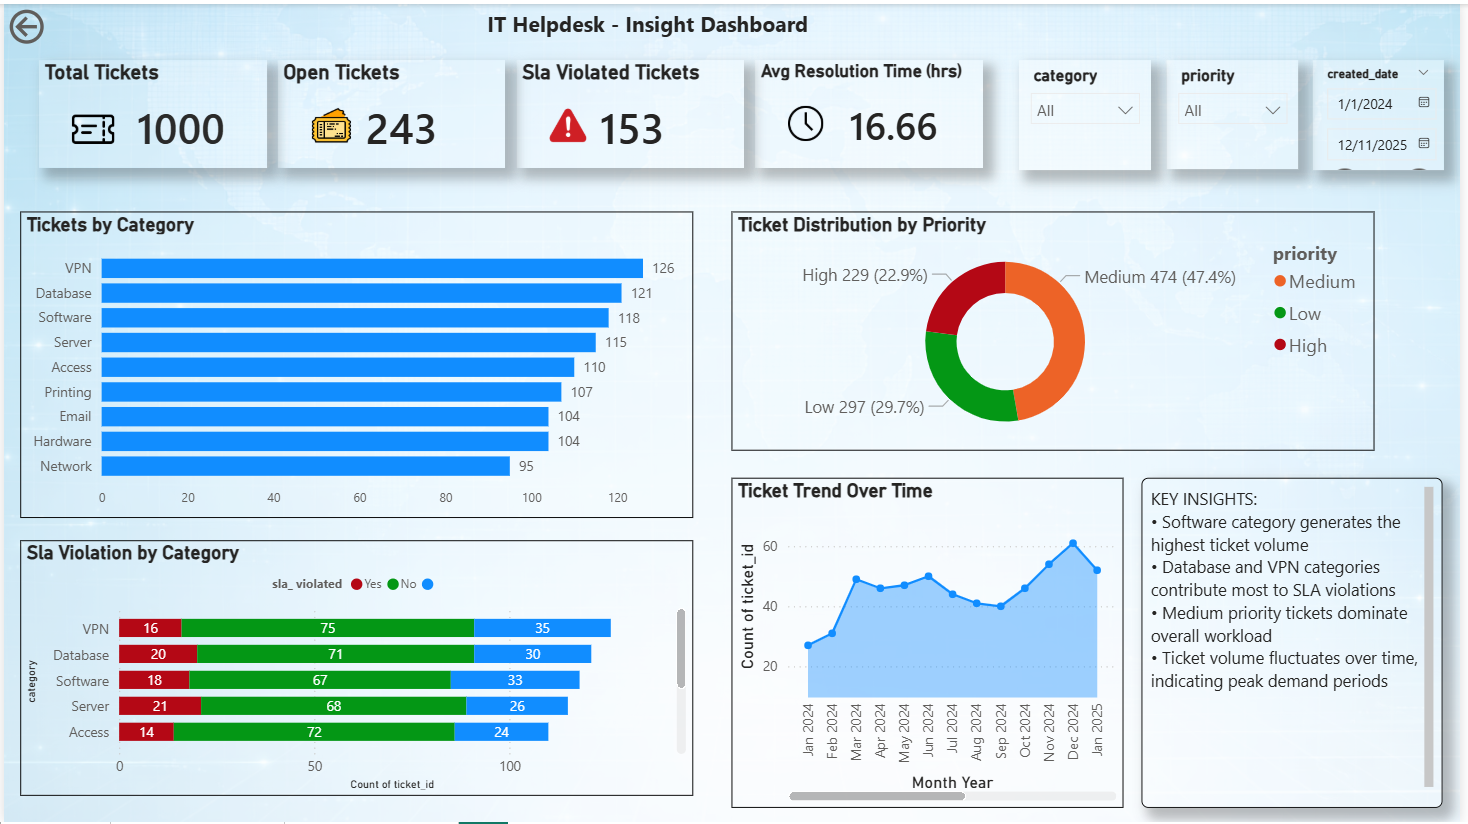

Layout of this report page (visuals, bound fields, positions):
{"tool":"powerbi","page":{"name":"Insight dashboard","canvas":[1280,720],"ordinal":2},"visuals":[{"type":"cardVisual","title":"Total Tickets","fields":{"Data":["CountNonNull(helpdesk_analytics.ticket_id)"]},"box":[30.3,49.6,200.9,94.4],"z":0},{"type":"cardVisual","title":"Sla Violated Tickets","fields":{"Data":["CountNonNull(helpdesk_analytics.sla_violated)"]},"box":[451,49.6,200,94.4],"z":1000},{"type":"cardVisual","title":"Avg Resolution Time (hrs)","fields":{"Data":["Avg(helpdesk_analytics.resolution_time_hours)"]},"box":[660.9,49.6,200,94.4],"z":2000},{"type":"cardVisual","title":"Open Tickets","fields":{"Data":["helpdesk_analytics.Open Tickets"]},"box":[241.1,49.6,200,94.4],"z":3000},{"type":"clusteredBarChart","title":"Tickets by Category","fields":{"Category":["helpdesk_analytics.category"],"Y":["CountNonNull(helpdesk_analytics.ticket_id)"]},"box":[14.5,182.8,591.9,269.9],"z":4000},{"type":"donutChart","title":"Ticket Distribution by Priority","fields":{"Category":["helpdesk_analytics.priority"],"Y":["CountNonNull(helpdesk_analytics.ticket_id)"]},"box":[640.4,182.8,565.3,210.6],"z":5000},{"type":"barChart","title":"Sla Violation by Category","fields":{"Category":["helpdesk_analytics.category"],"Y":["CountNonNull(helpdesk_analytics.ticket_id)"],"Series":["helpdesk_analytics.sla_violated"]},"box":[14.5,472.1,591.9,225.2],"z":6000},{"type":"lineChart","title":"Ticket Trend Over Time","fields":{"Y":["CountNonNull(helpdesk_analytics.ticket_id)"],"Category":["helpdesk_analytics.Month Year"]},"box":[640.4,416.4,345,290.5],"z":7000},{"type":"textbox","box":[1001.1,416.4,265.1,290.5],"z":8000},{"type":"textbox","box":[420,0,325.6,37.5],"z":9000},{"type":"slicer","fields":{"Values":["helpdesk_analytics.priority"]},"box":[1022.3,49.6,116.2,95.6],"z":10000},{"type":"slicer","fields":{"Values":["helpdesk_analytics.category"]},"box":[893.3,49.6,116.2,96.8],"z":11000},{"type":"slicer","fields":{"Values":["helpdesk_analytics.created_date"]},"box":[1151.2,49.6,115,96.8],"z":12000},{"type":"actionButton","box":[0,0,49.6,39.9],"z":13000}]}

Visuals, with their boxes in screenshot pixels (x1, y1, x2, y2), scaled from the page's 1280x720 canvas onto the 1468x824 screenshot:
"Total Tickets" cardVisual: Rect(35, 57, 265, 165)
"Sla Violated Tickets" cardVisual: Rect(517, 57, 747, 165)
"Avg Resolution Time (hrs)" cardVisual: Rect(758, 57, 987, 165)
"Open Tickets" cardVisual: Rect(277, 57, 506, 165)
"Tickets by Category" clusteredBarChart: Rect(17, 209, 695, 518)
"Ticket Distribution by Priority" donutChart: Rect(734, 209, 1383, 450)
"Sla Violation by Category" barChart: Rect(17, 540, 695, 798)
"Ticket Trend Over Time" lineChart: Rect(734, 477, 1130, 809)
textbox: Rect(1148, 477, 1452, 809)
textbox: Rect(482, 0, 855, 43)
slicer - helpdesk_analytics.priority: Rect(1172, 57, 1306, 166)
slicer - helpdesk_analytics.category: Rect(1025, 57, 1158, 168)
slicer - helpdesk_analytics.created_date: Rect(1320, 57, 1452, 168)
actionButton: Rect(0, 0, 57, 46)
